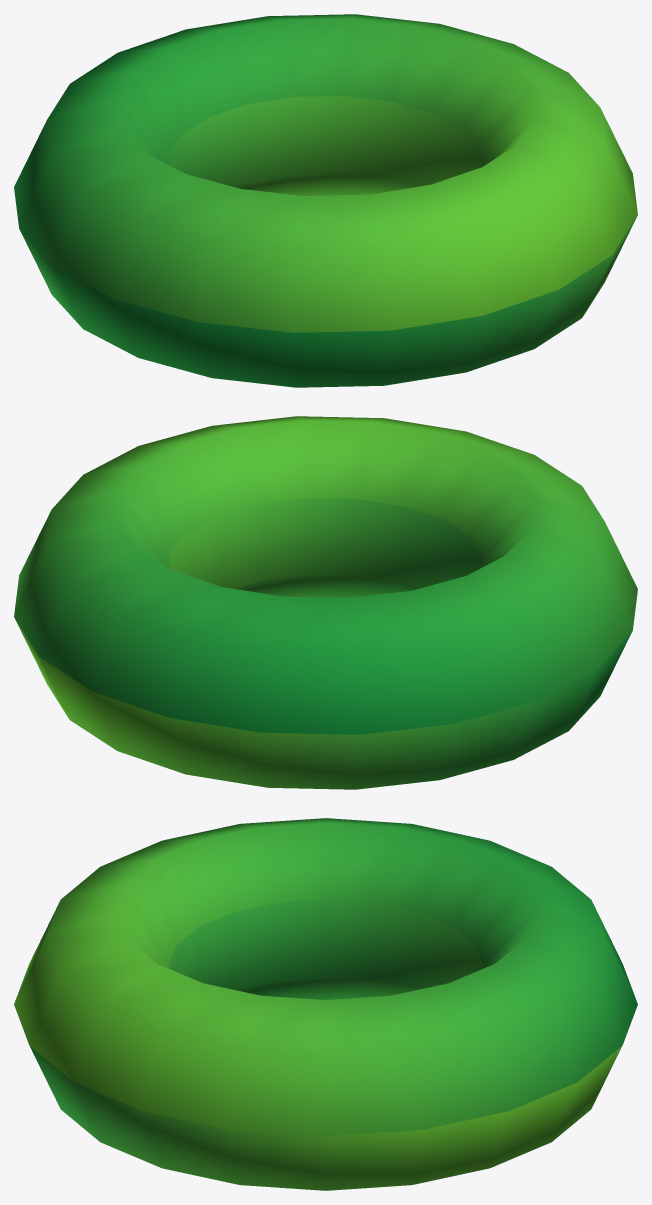
The model's file is ENV_Ring_Float_Small.fbx.
3 views of the same model, one above another, from view 1: azimuth 30°, elevation 25°; view 2: azimuth 150°, elevation 25°; view 3: azimuth 270°, elevation 25° (orthographic).
Parts seen in each view (by area): view 1: ENV_Ring_Float_Small; view 2: ENV_Ring_Float_Small; view 3: ENV_Ring_Float_Small.
Part boxes in pixels (<box>): ENV_Ring_Float_Small: <box>14,14,637,387</box>; ENV_Ring_Float_Small: <box>14,416,637,789</box>; ENV_Ring_Float_Small: <box>14,818,637,1190</box>.
Bounding box in the file's own units: 0.8441 × 0.2772 × 0.8441.
